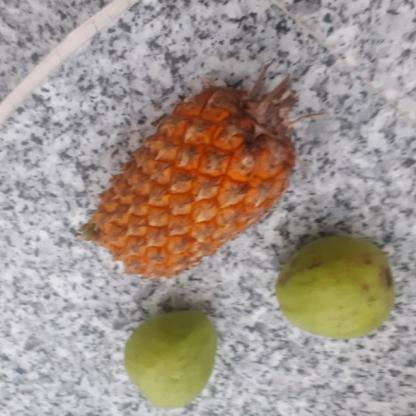guava: (270, 238, 396, 338), (124, 309, 218, 406)
pineapple: (78, 80, 294, 286)
